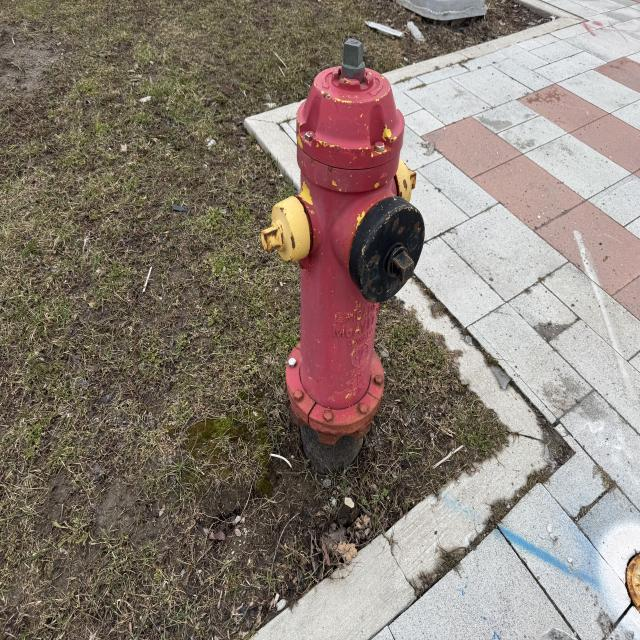Fire hydrant: (259, 38, 426, 451)
